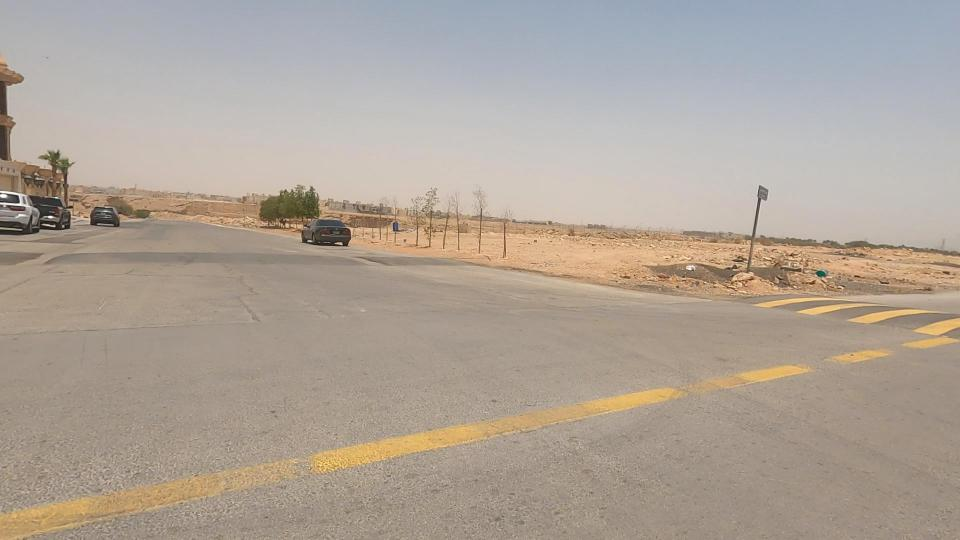GARBAGE: (780, 248, 871, 299), (653, 239, 735, 294)
